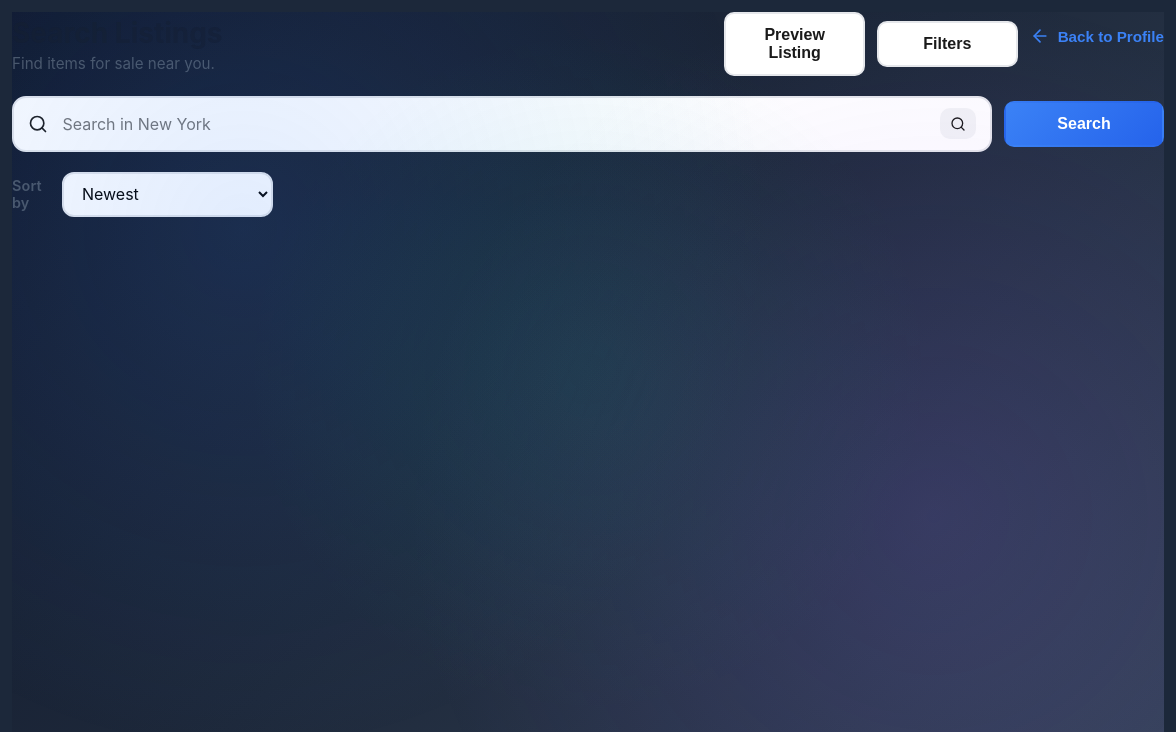
Test: SearchListings › runs search and shows a result card
Step 1. Type "lamp" into the field with placeholder "Search in New York" → (494, 124), box left=60, top=113, right=928, bottom=135
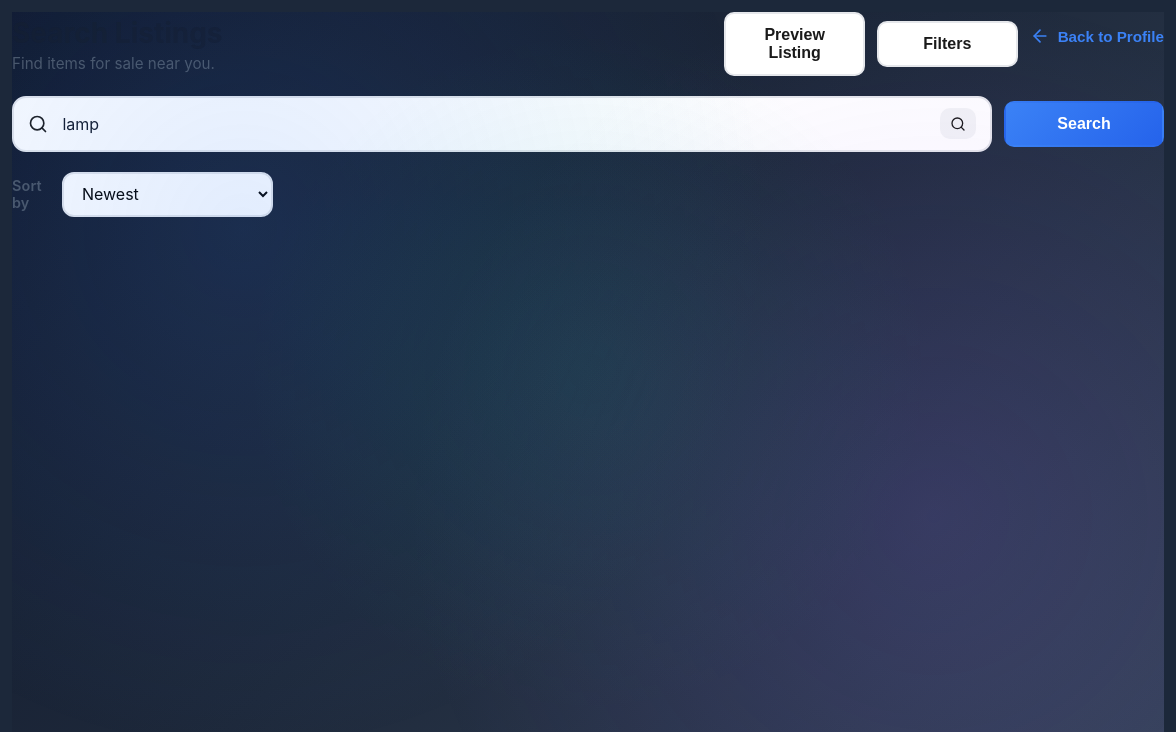
Step 2. Click the button "Search" → click(1084, 124), box left=1004, top=101, right=1164, bottom=147
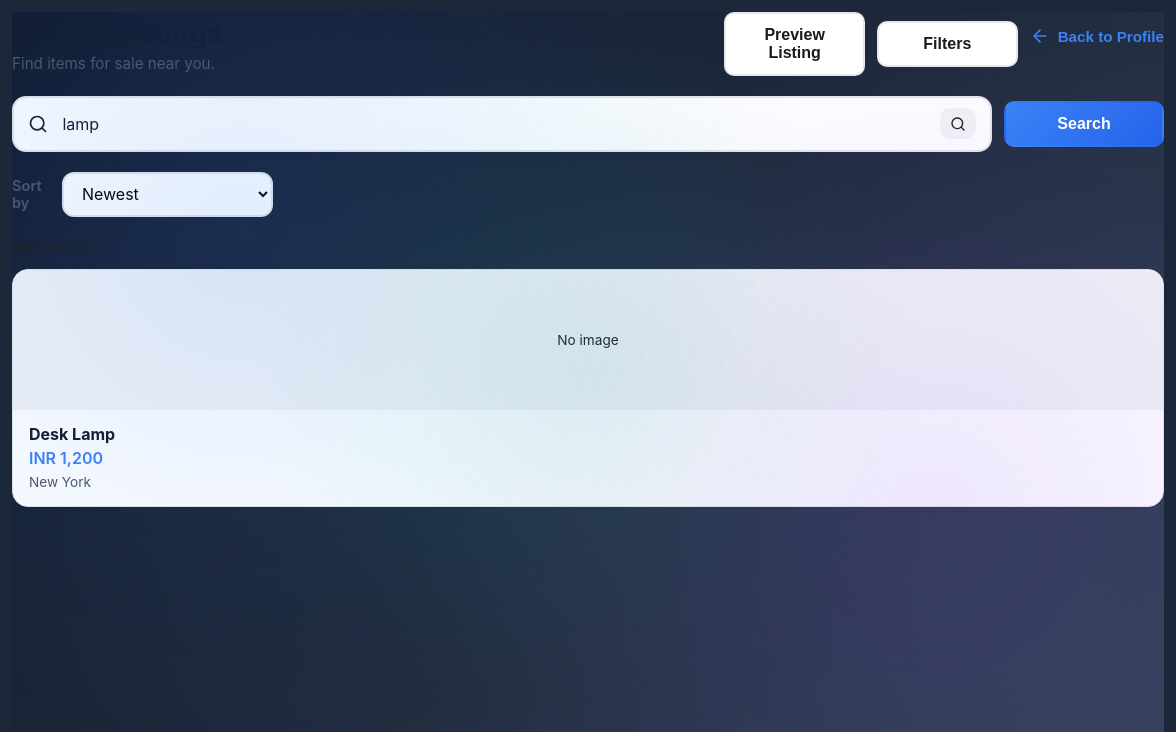
Check: the heading "Desk Lamp" is shown, box left=29, top=424, right=115, bottom=444
